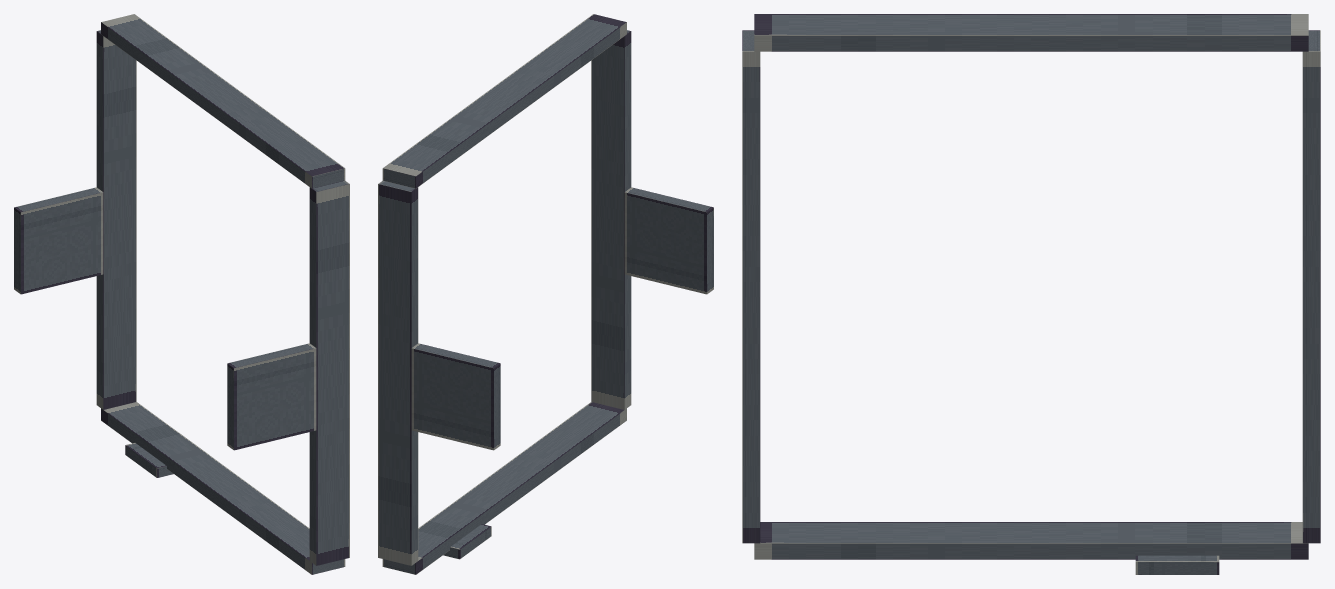
File: bench_helmet_3.obj
3 renders of one model, left to right at view 1: azimuth 30°, elevation 25°; view 2: azimuth 150°, elevation 25°; view 3: azimuth 270°, elevation 25°, orthographic. The views are drawn at different scales.
Parts seen in each view (by area): view 1: geometry; view 2: geometry; view 3: geometry.
Part boxes in pixels (bbox=[...]): geometry: bbox=[14, 14, 349, 574]; geometry: bbox=[378, 14, 713, 574]; geometry: bbox=[742, 14, 1320, 574].
Size of the model in its own units: 0.0811 by 0.25 by 0.2457.
